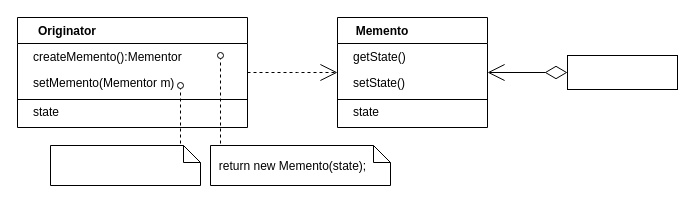
Some shapes in this 695 by 203 pixel diagram are drawn without their labels. Each missing label, with the centre of its shape:
Caretaker: point (622, 72)
state= m->getState();: point (125, 165)
